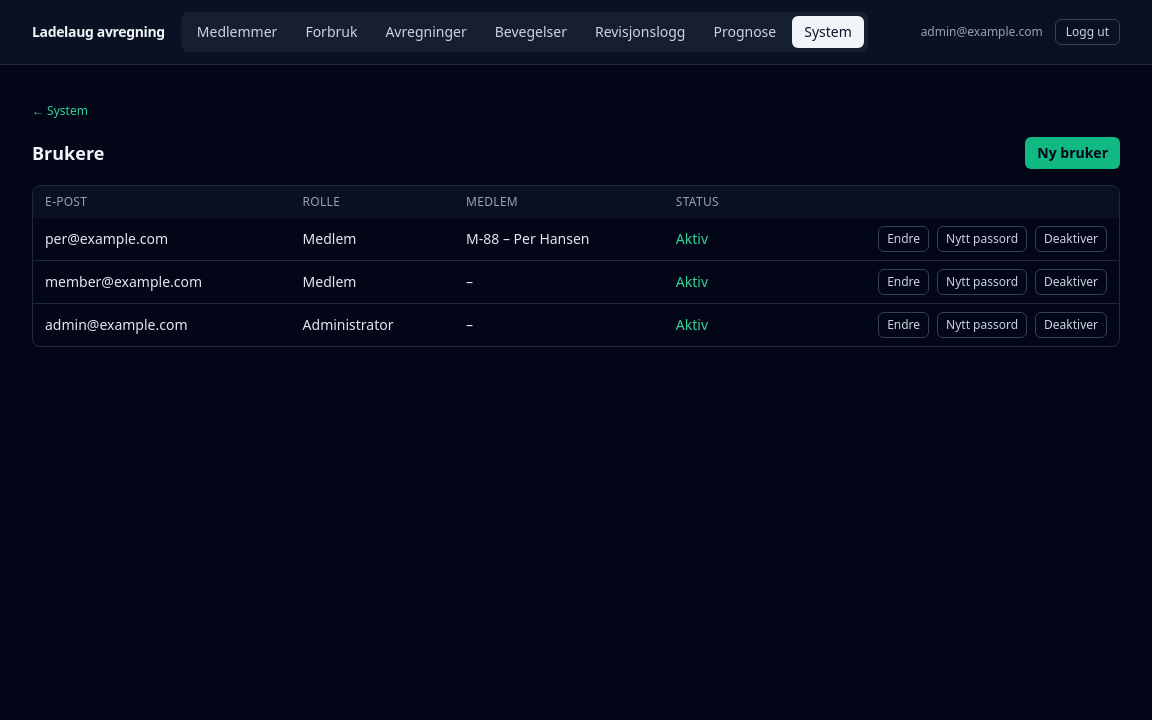
Users (admin) › edits a login's email and promotes it to admin
The width and height of the screenshot is (1152, 720).
Click the button "Endre" in the row of "per@example.com" at coordinates (904, 239), box [878,226,929,252]
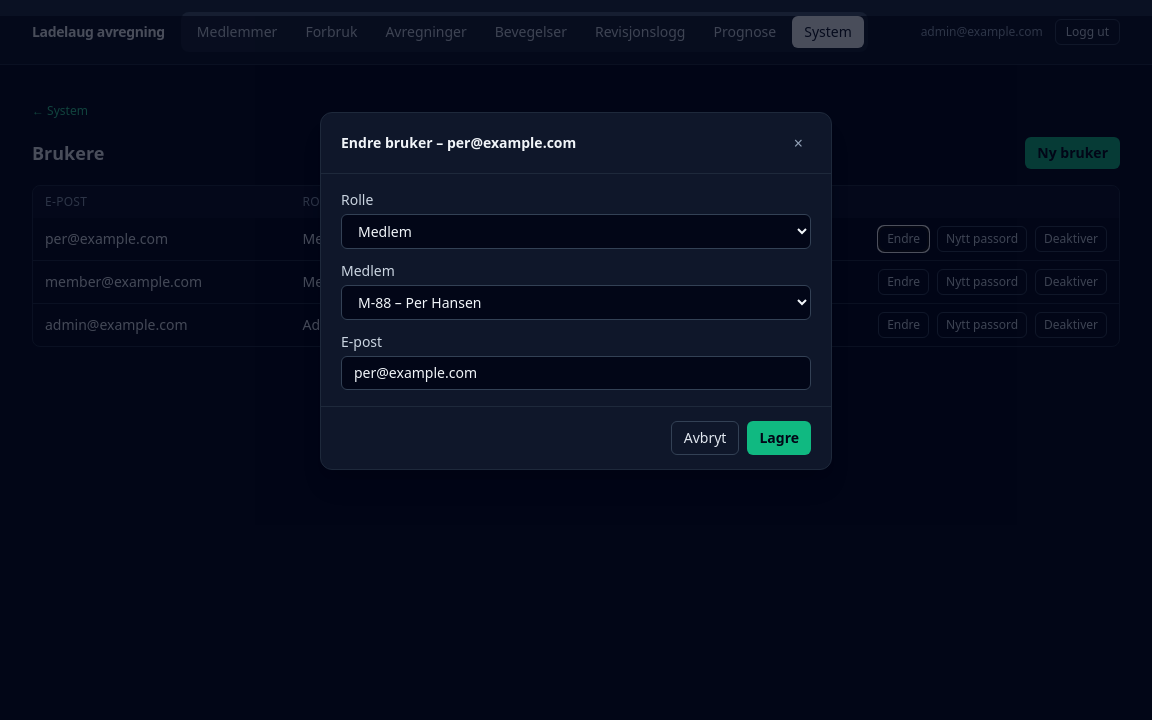
Replace the text in the field labelled "E-post" with "per.hansen@example.com" at coordinates (576, 373), box [341,356,811,390]
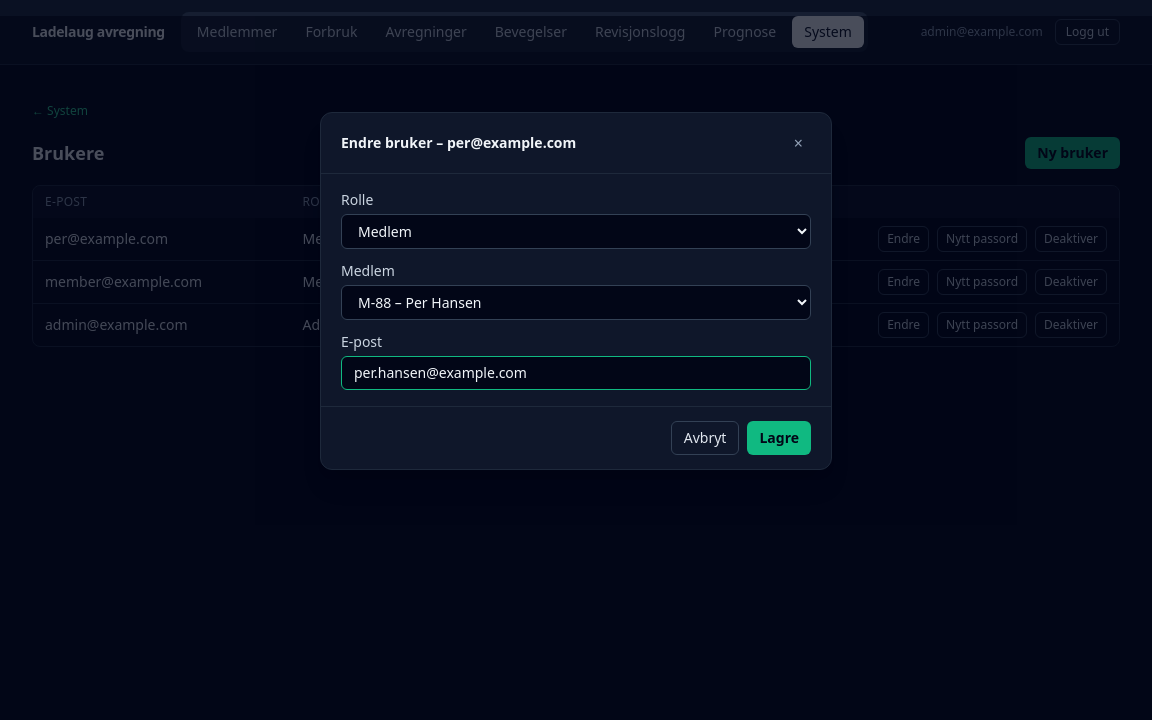
Select "Administrator" in the dropdown labelled "Rolle" at coordinates (576, 232), box [341,214,811,249]
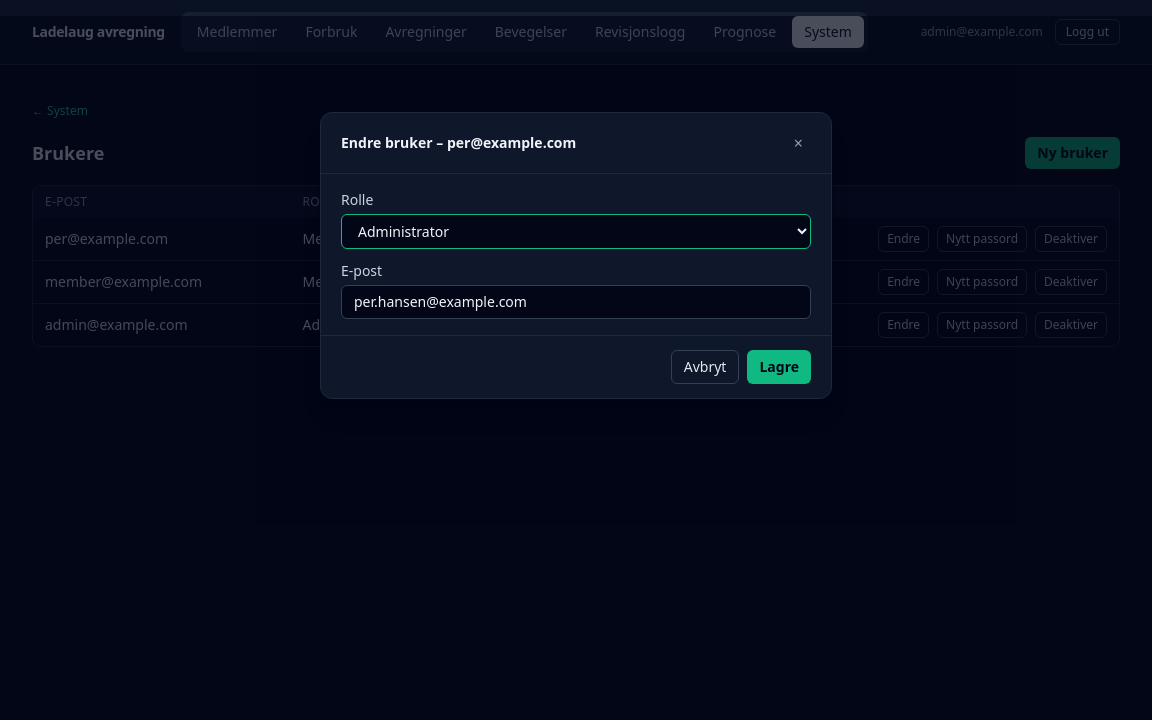
Click the button "Lagre" at coordinates (779, 367), box [747,350,811,384]
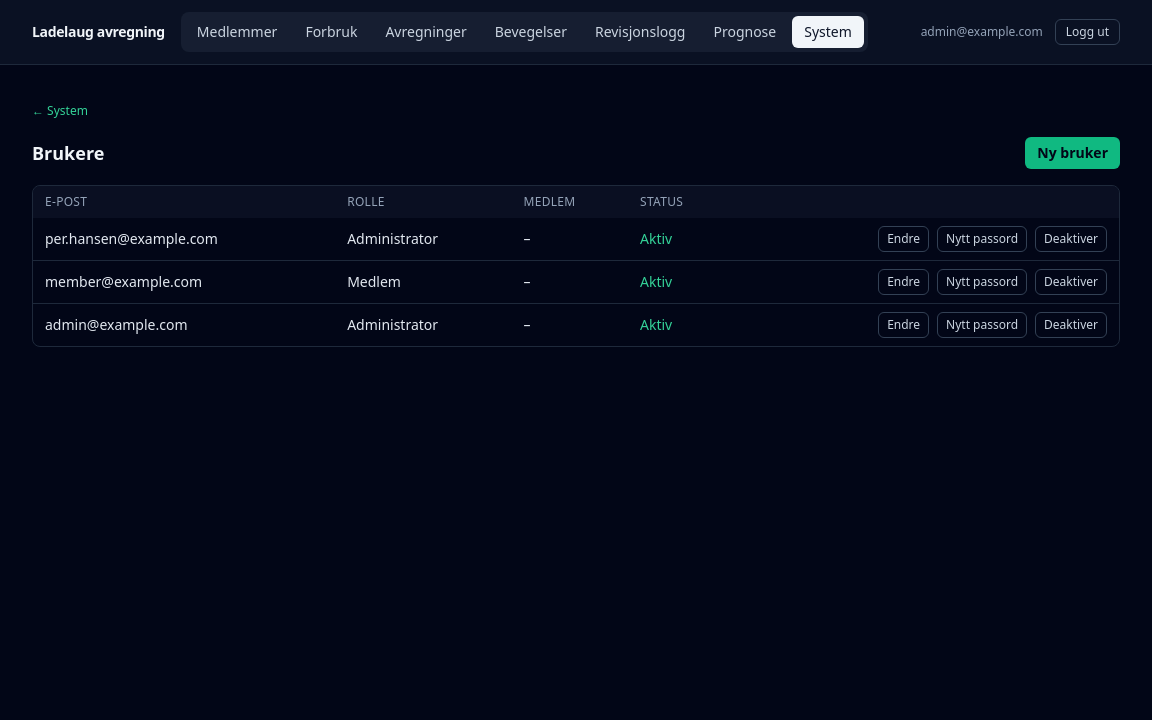
Expected: the text "–" in the row of "per.hansen@example.com" is shown, [524,229,530,248]
Expected: the text "Administrator" next to "per.hansen@example.com" is shown, [347,229,438,248]
